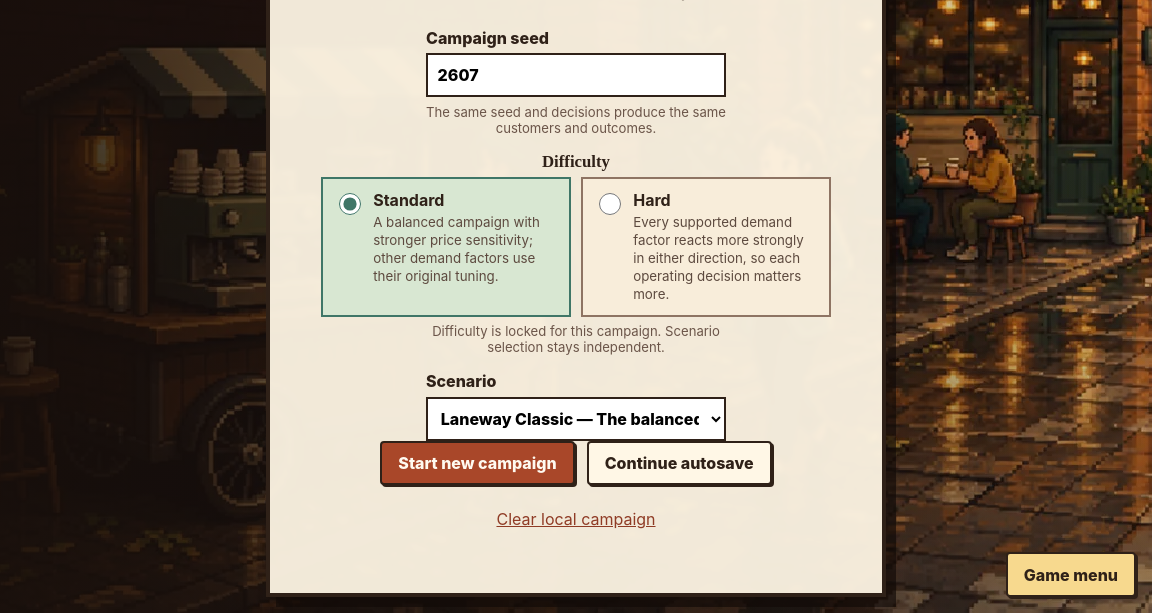
playable cart UI › renders separate Standard and Hard records with shared neutral unlocks
The image size is (1152, 613).
(page scrolled)
Click the button "Continue autosave" at point(679, 463), box [587,441,772,486]
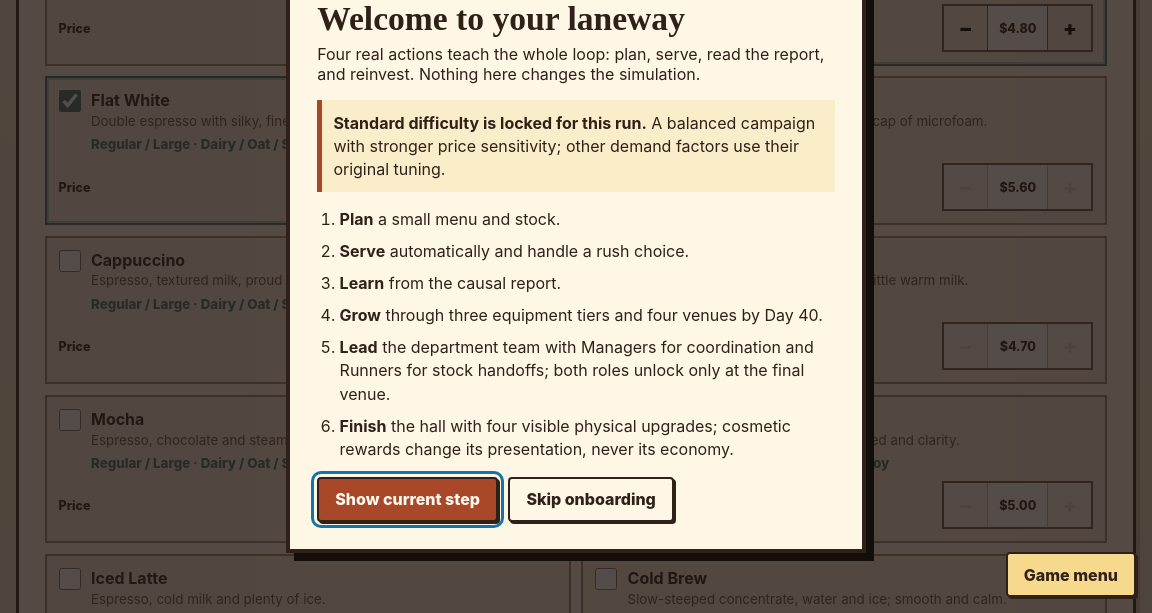
Click the button "Game menu" at point(1071, 575), box [1006,552,1136,597]
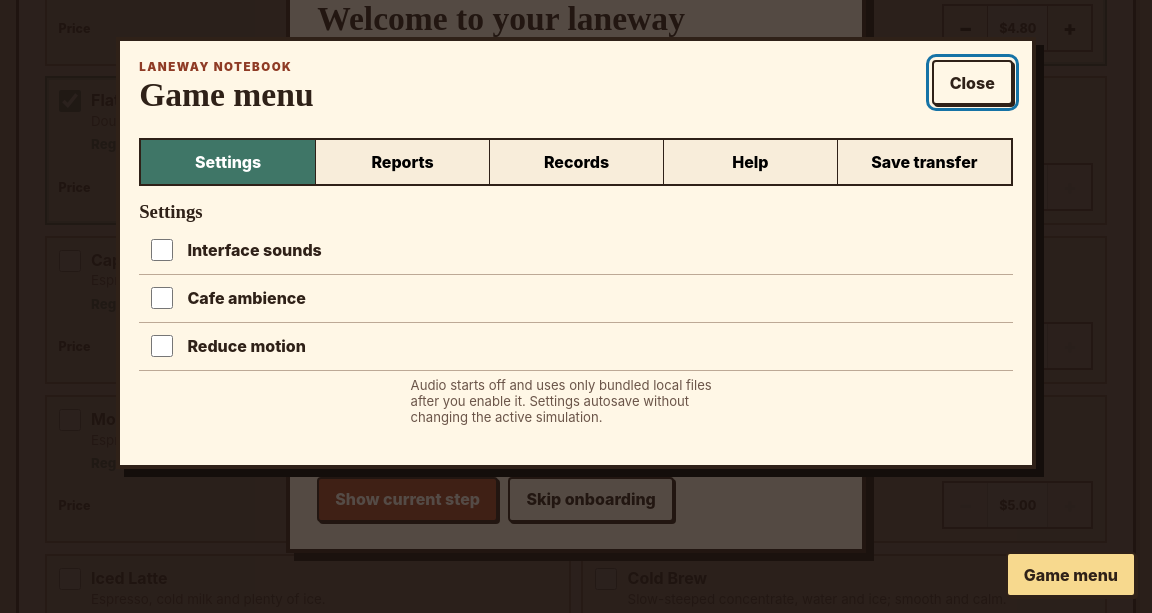
Click the tab "Records" at point(576, 162), box [489,140,663,184]
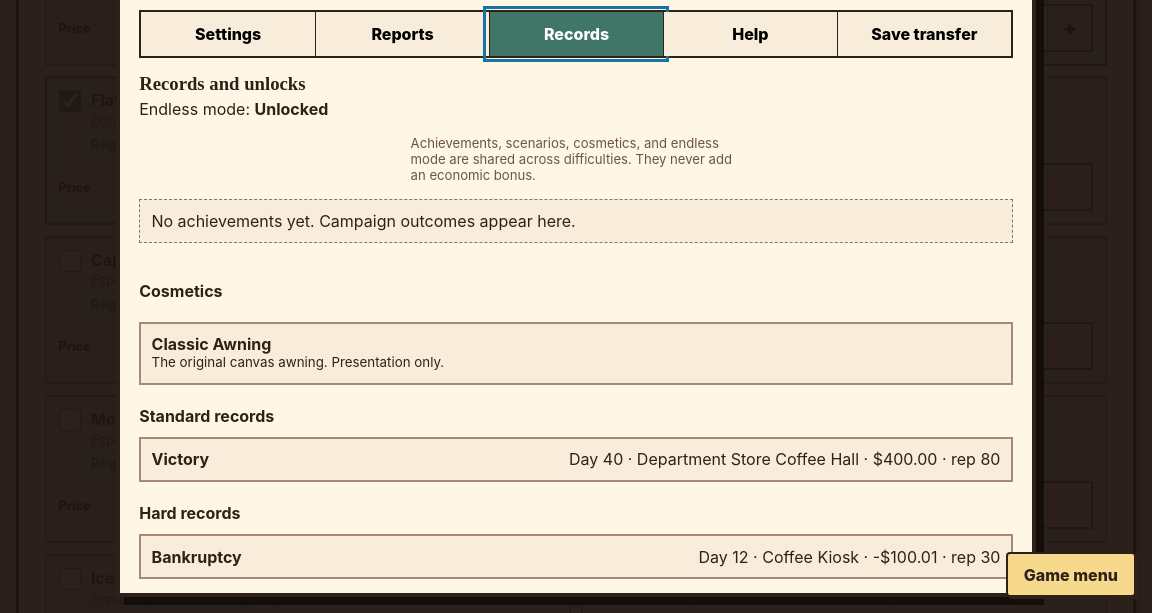
Check: the heading "Standard records" is shown, box [139,406,274,426]
Check: the heading "Hard records" is shown, box [139,503,240,523]
Check: the text "shared across difficulties" is shown, box [411,135,732,183]
